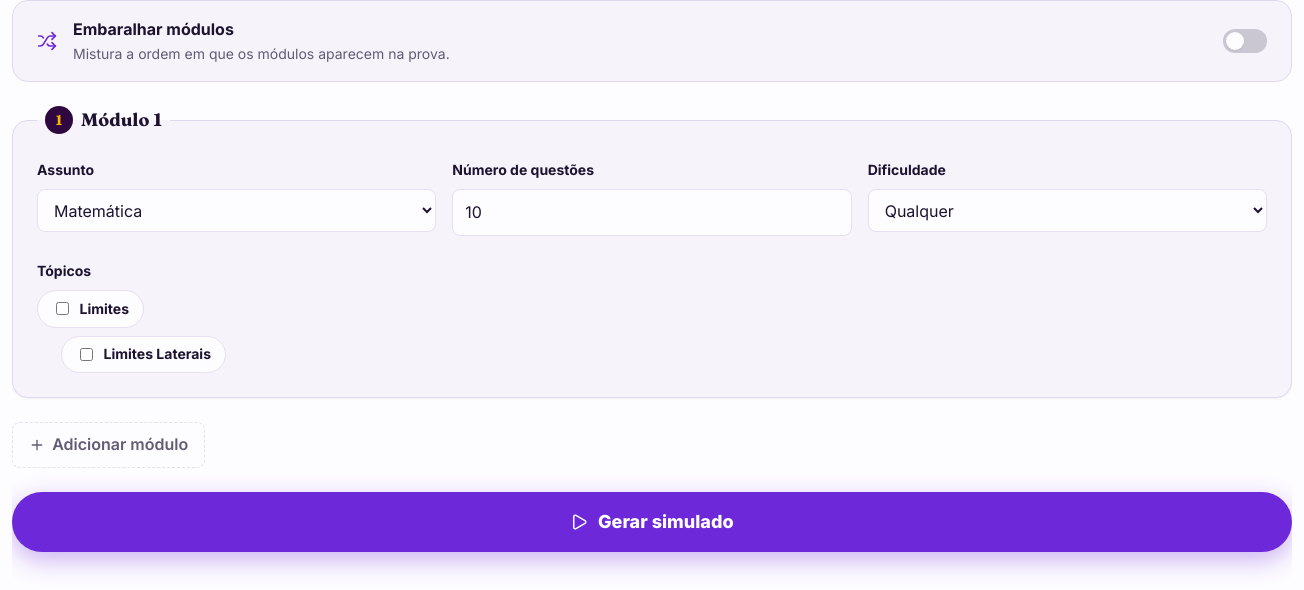
Test: SimuladoSetup › selecting a topic also selects all of its subtopics
Click the checkbox labelled "Limites": (62, 309) [56,302,69,315]
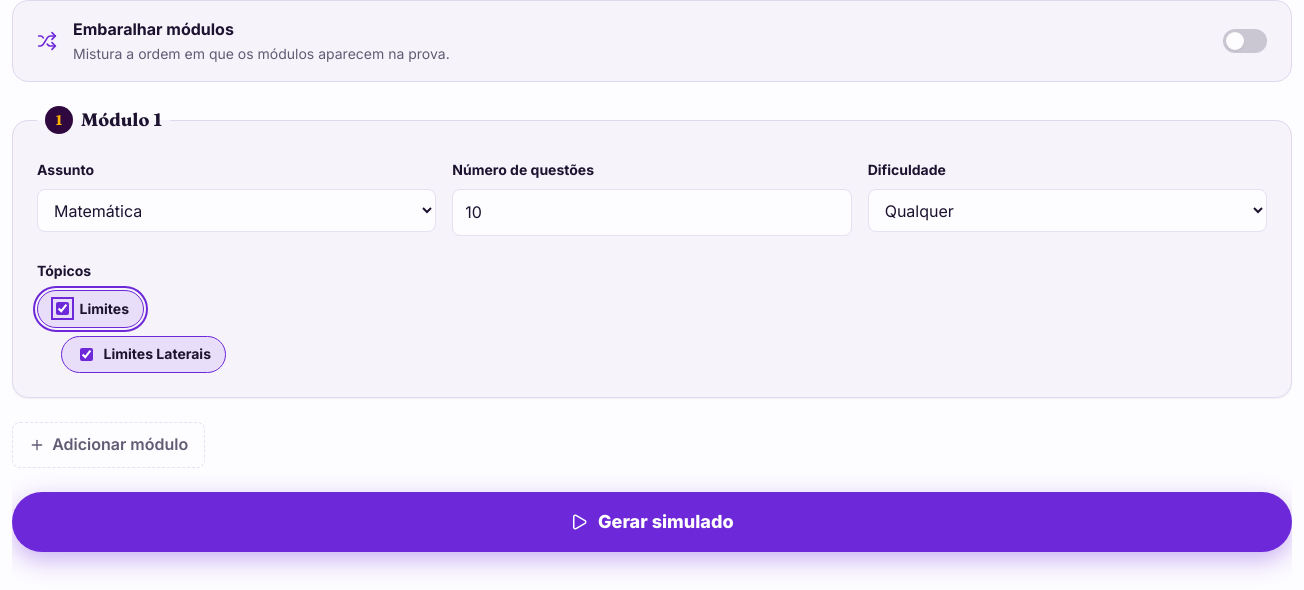
Result: the checkbox labelled "Limites" is checked at [56,302,69,315]
Result: the checkbox labelled "Limites Laterais" is checked at [80,348,93,361]
